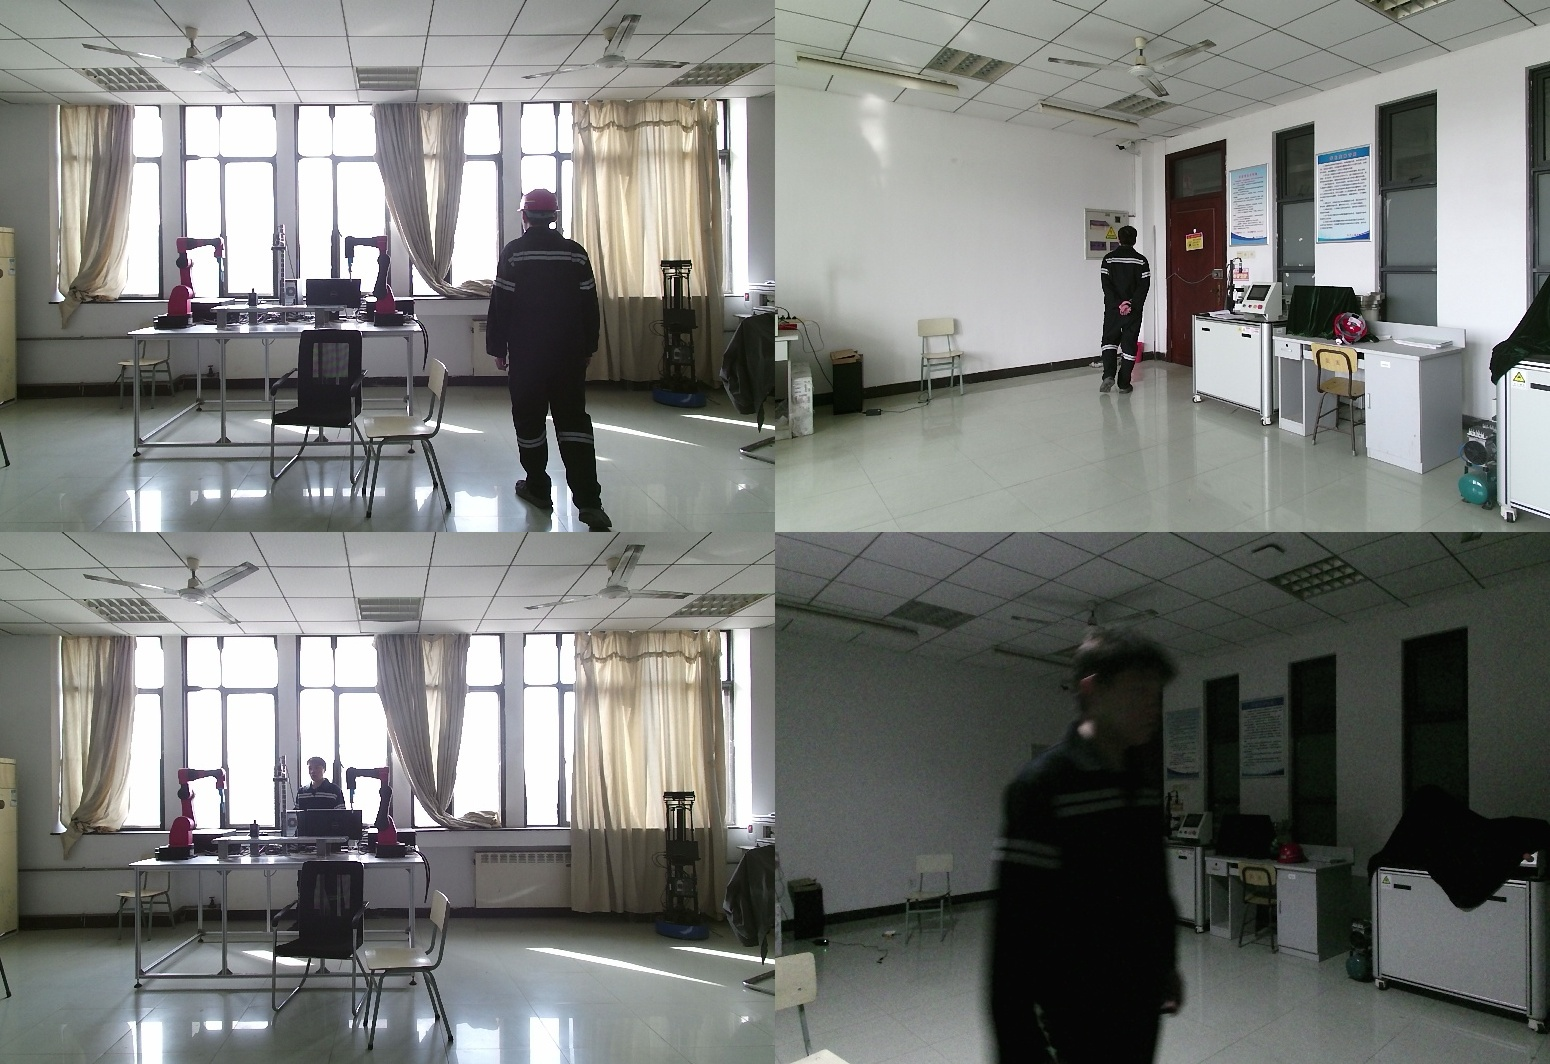person: (958, 637, 1186, 1064), (489, 188, 618, 532), (1093, 226, 1154, 401), (288, 759, 358, 839)
